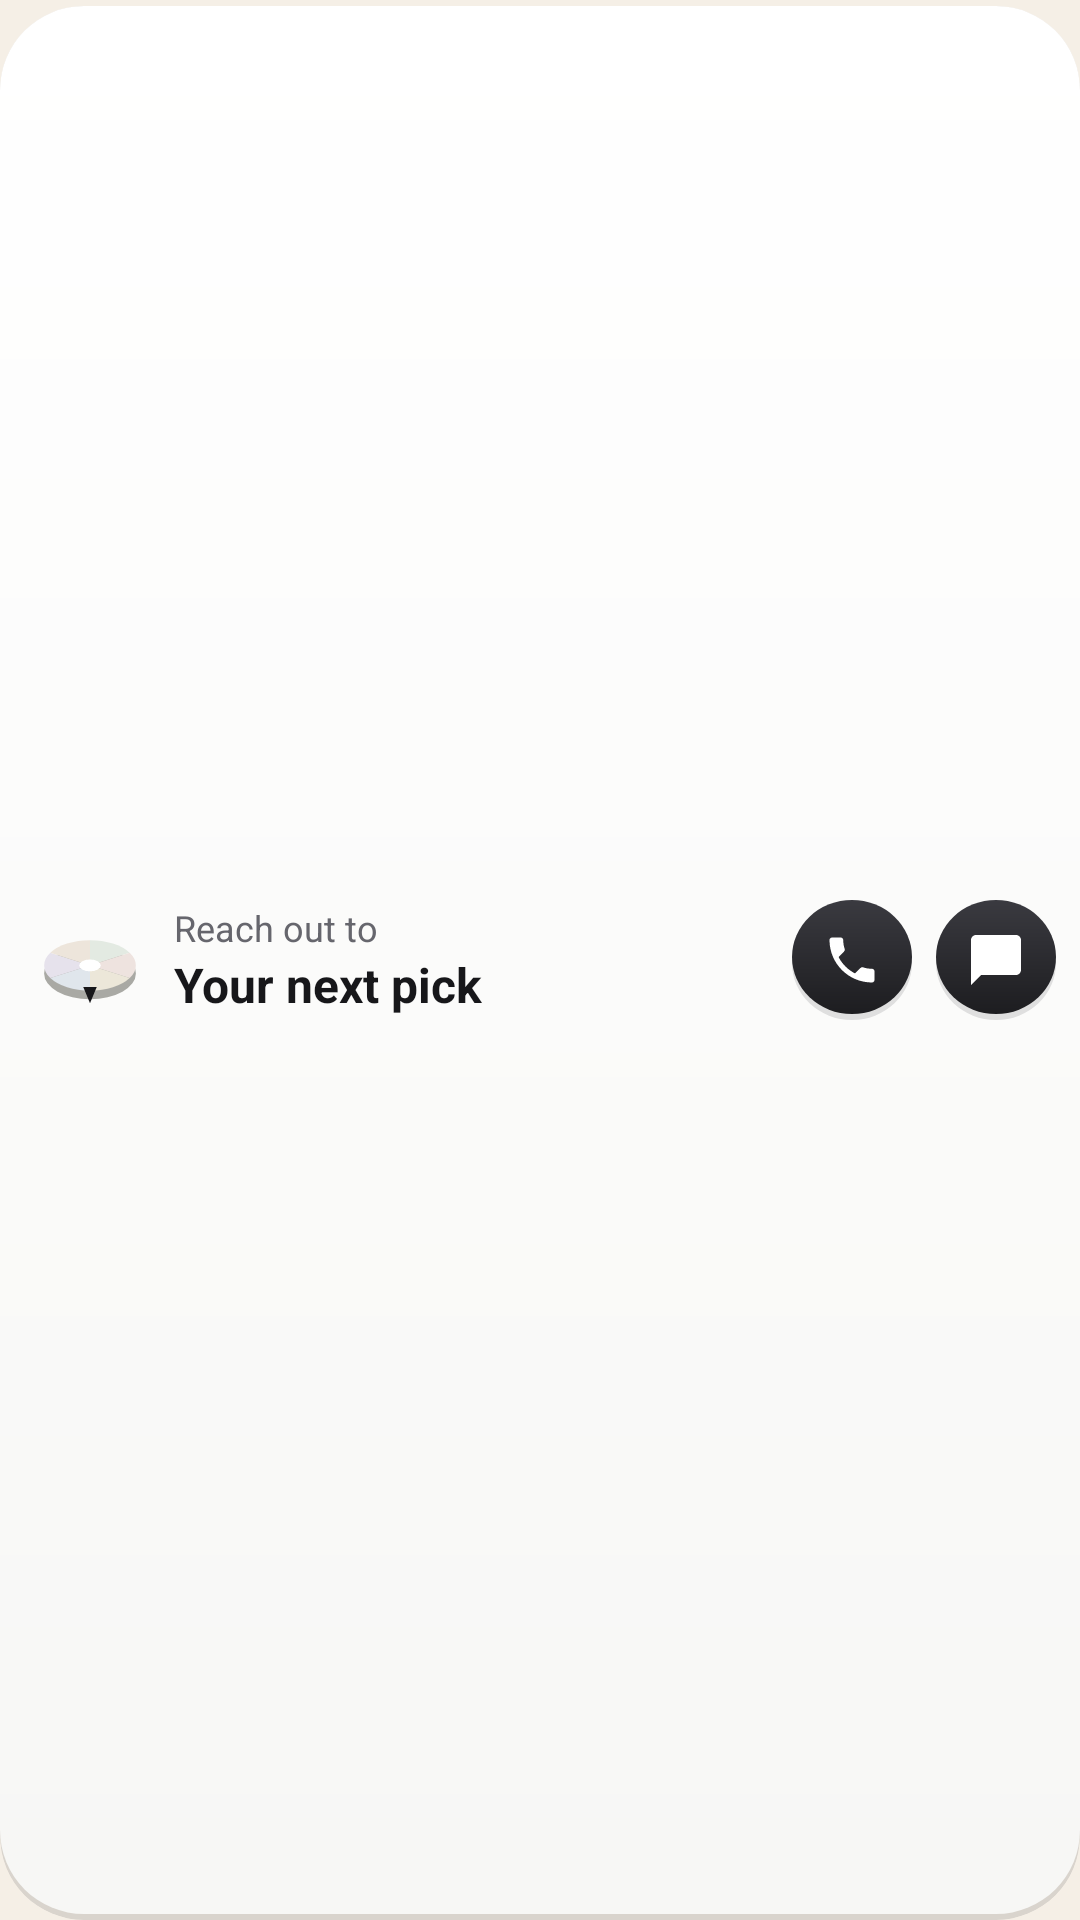

Named icons in this screenshot (1080 x 1920) and their bounding boxes, [left=x1, top=y1, right=x2, bottom=y2]:
Call: [left=792, top=900, right=912, bottom=1020]
